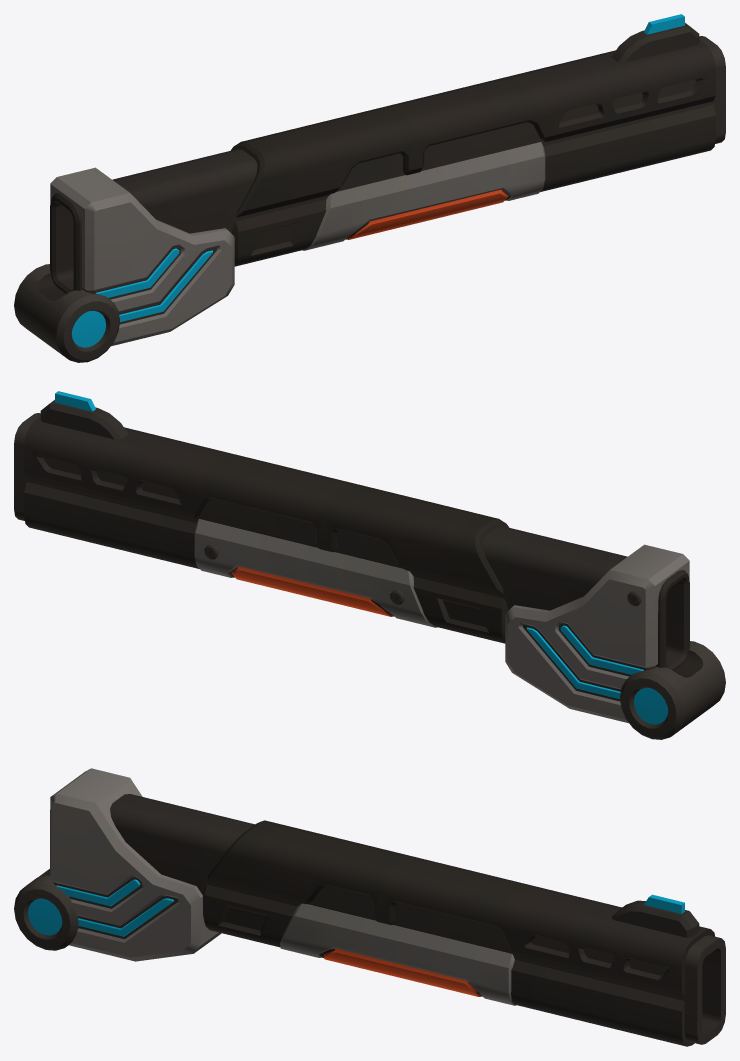
File: Shotgun5_Magazine.fbx
3 views of the same model, one above another, from view 1: azimuth 30°, elevation 25°; view 2: azimuth 150°, elevation 25°; view 3: azimuth 330°, elevation 25° (orthographic).
Parts seen in each view (by area): view 1: Shotgun5_Magazine; view 2: Shotgun5_Magazine; view 3: Shotgun5_Magazine.
Boxes of the visible parts, x1,y1,x2,y2 form: Shotgun5_Magazine: [14, 14, 725, 362]; Shotgun5_Magazine: [14, 391, 725, 739]; Shotgun5_Magazine: [14, 768, 725, 1046].
Bounding box in the file's own units: 54.88 × 14.02 × 6.76.
